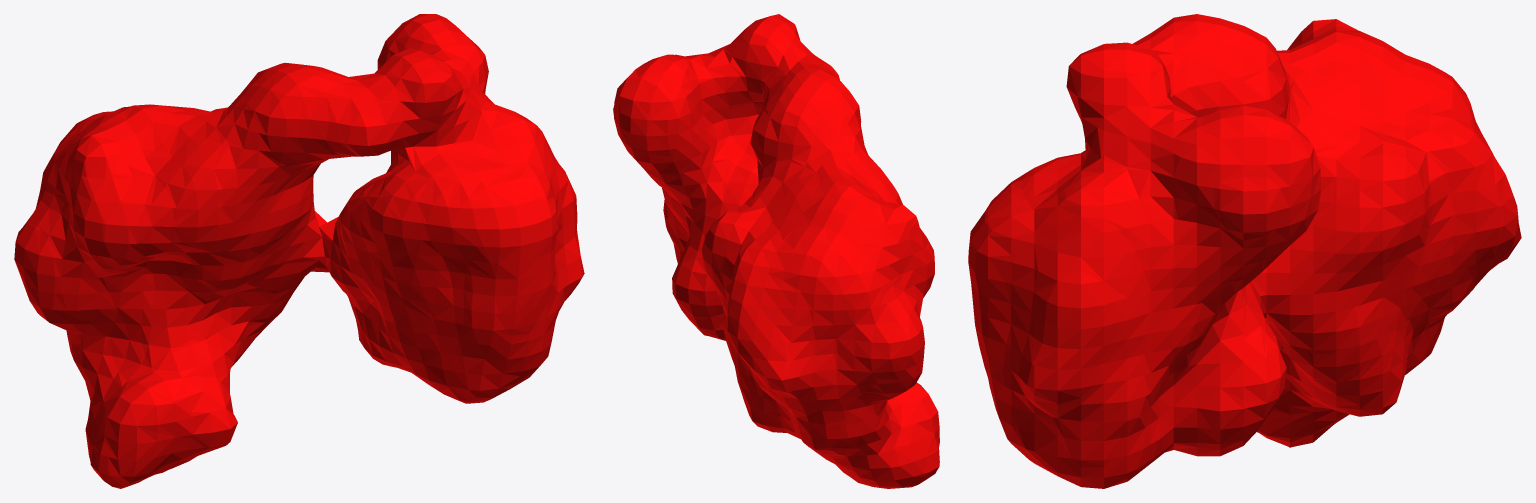
The model's file is ppsR_coarse.dae.
3 renders of one model, left to right at view 1: azimuth 30°, elevation 25°; view 2: azimuth 150°, elevation 25°; view 3: azimuth 270°, elevation 25°, orthographic. The views are drawn at different scales.
Visible parts, largest first — view 1: ppsR; view 2: ppsR; view 3: ppsR.
Part boxes in pixels (x1,y1,x2,y2): ppsR: [14, 14, 584, 488]; ppsR: [613, 14, 939, 488]; ppsR: [968, 14, 1521, 488].
Bounding box in the file's own units: 65.38 × 63.47 × 63.04.
